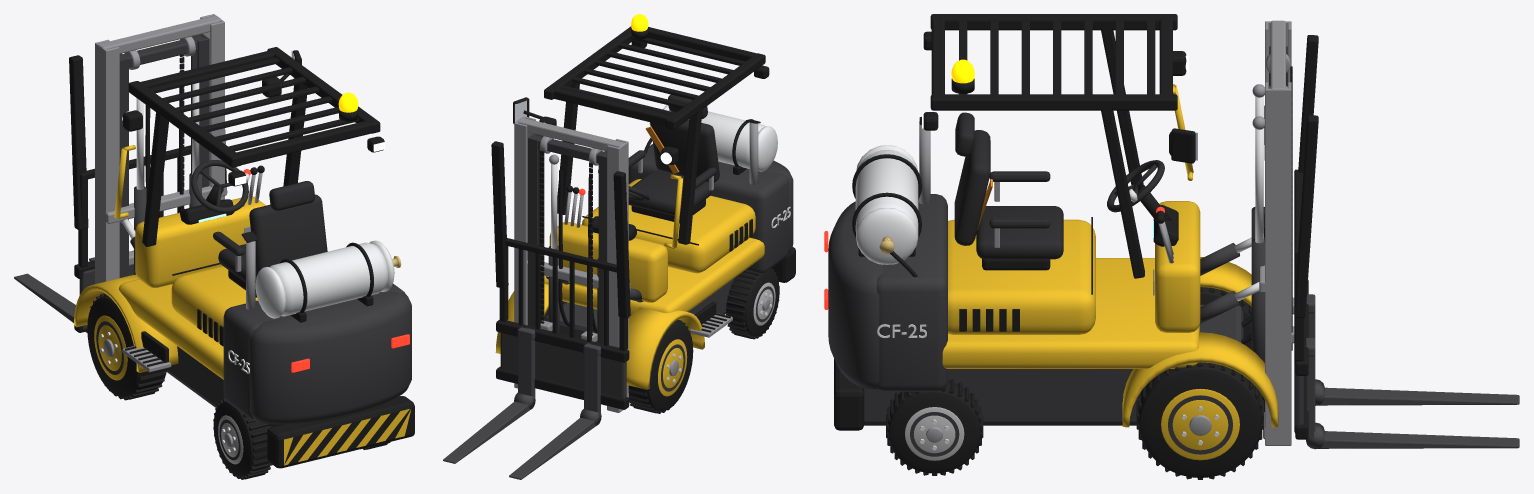
File: forklift.glb
3 views of the same model, side by side, from view 1: azimuth 30°, elevation 25°; view 2: azimuth 150°, elevation 25°; view 3: azimuth 270°, elevation 25° (orthographic). The views are drawn at different scales.
Visible parts, largest first — view 1: Body, Mast, Wheel_FL, Wheel_RL, Carriage; view 2: Body, Carriage, Mast, Wheel_FL, Wheel_RL; view 3: Body, Mast, Wheel_FR, Carriage, Wheel_RR.
Part boxes in pixels (x1,y1,x2,y2): Body: (69, 47, 414, 468); Mast: (95, 14, 226, 283); Wheel_FL: (87, 293, 166, 400); Wheel_RL: (213, 398, 272, 479); Carriage: (14, 145, 190, 333); Body: (491, 14, 795, 389); Carriage: (443, 238, 629, 479); Mast: (514, 116, 630, 412); Wheel_FL: (628, 319, 693, 413); Wheel_RL: (726, 268, 779, 339); Body: (824, 14, 1318, 430); Mast: (1241, 20, 1292, 445); Wheel_FR: (1136, 362, 1264, 479); Carriage: (1291, 169, 1519, 449); Wheel_RR: (886, 379, 983, 475).
Bounding box in the file's own units: 1.44 × 2.36 × 3.66.
